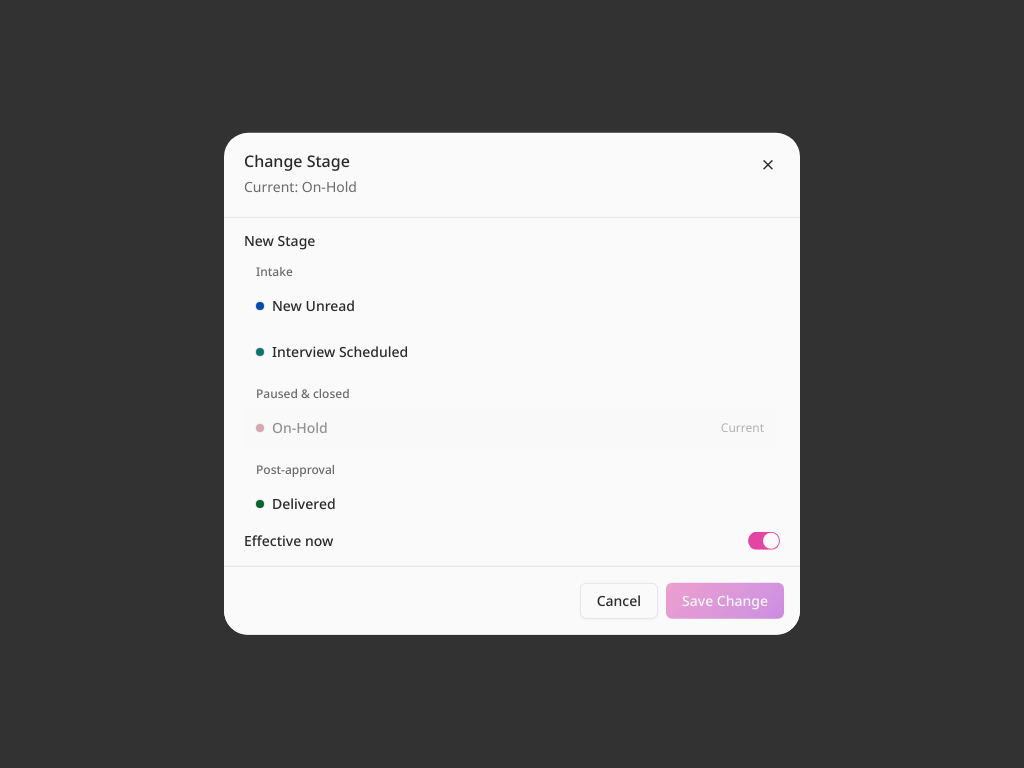
Test case: ChangeStageModal › treats the paused-from stage as a resume instead of a regression
Click the button "New Unread" at (314, 305), box left=244, top=286, right=776, bottom=326
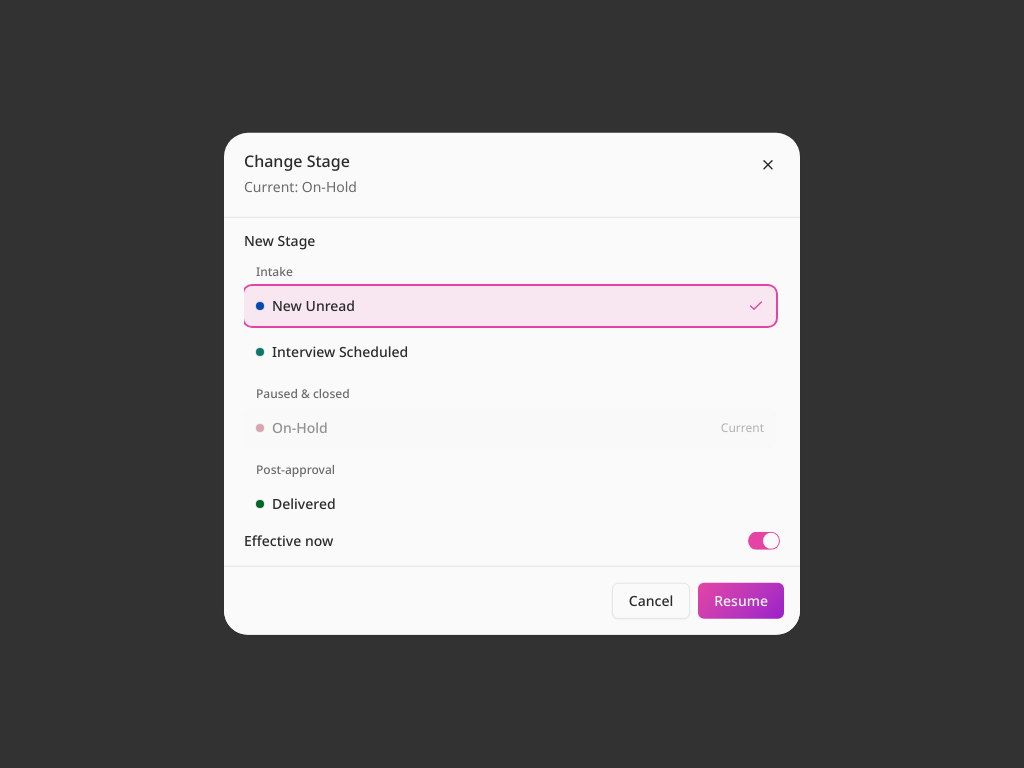
Now the button "Resume" is shown, box left=698, top=583, right=784, bottom=619
